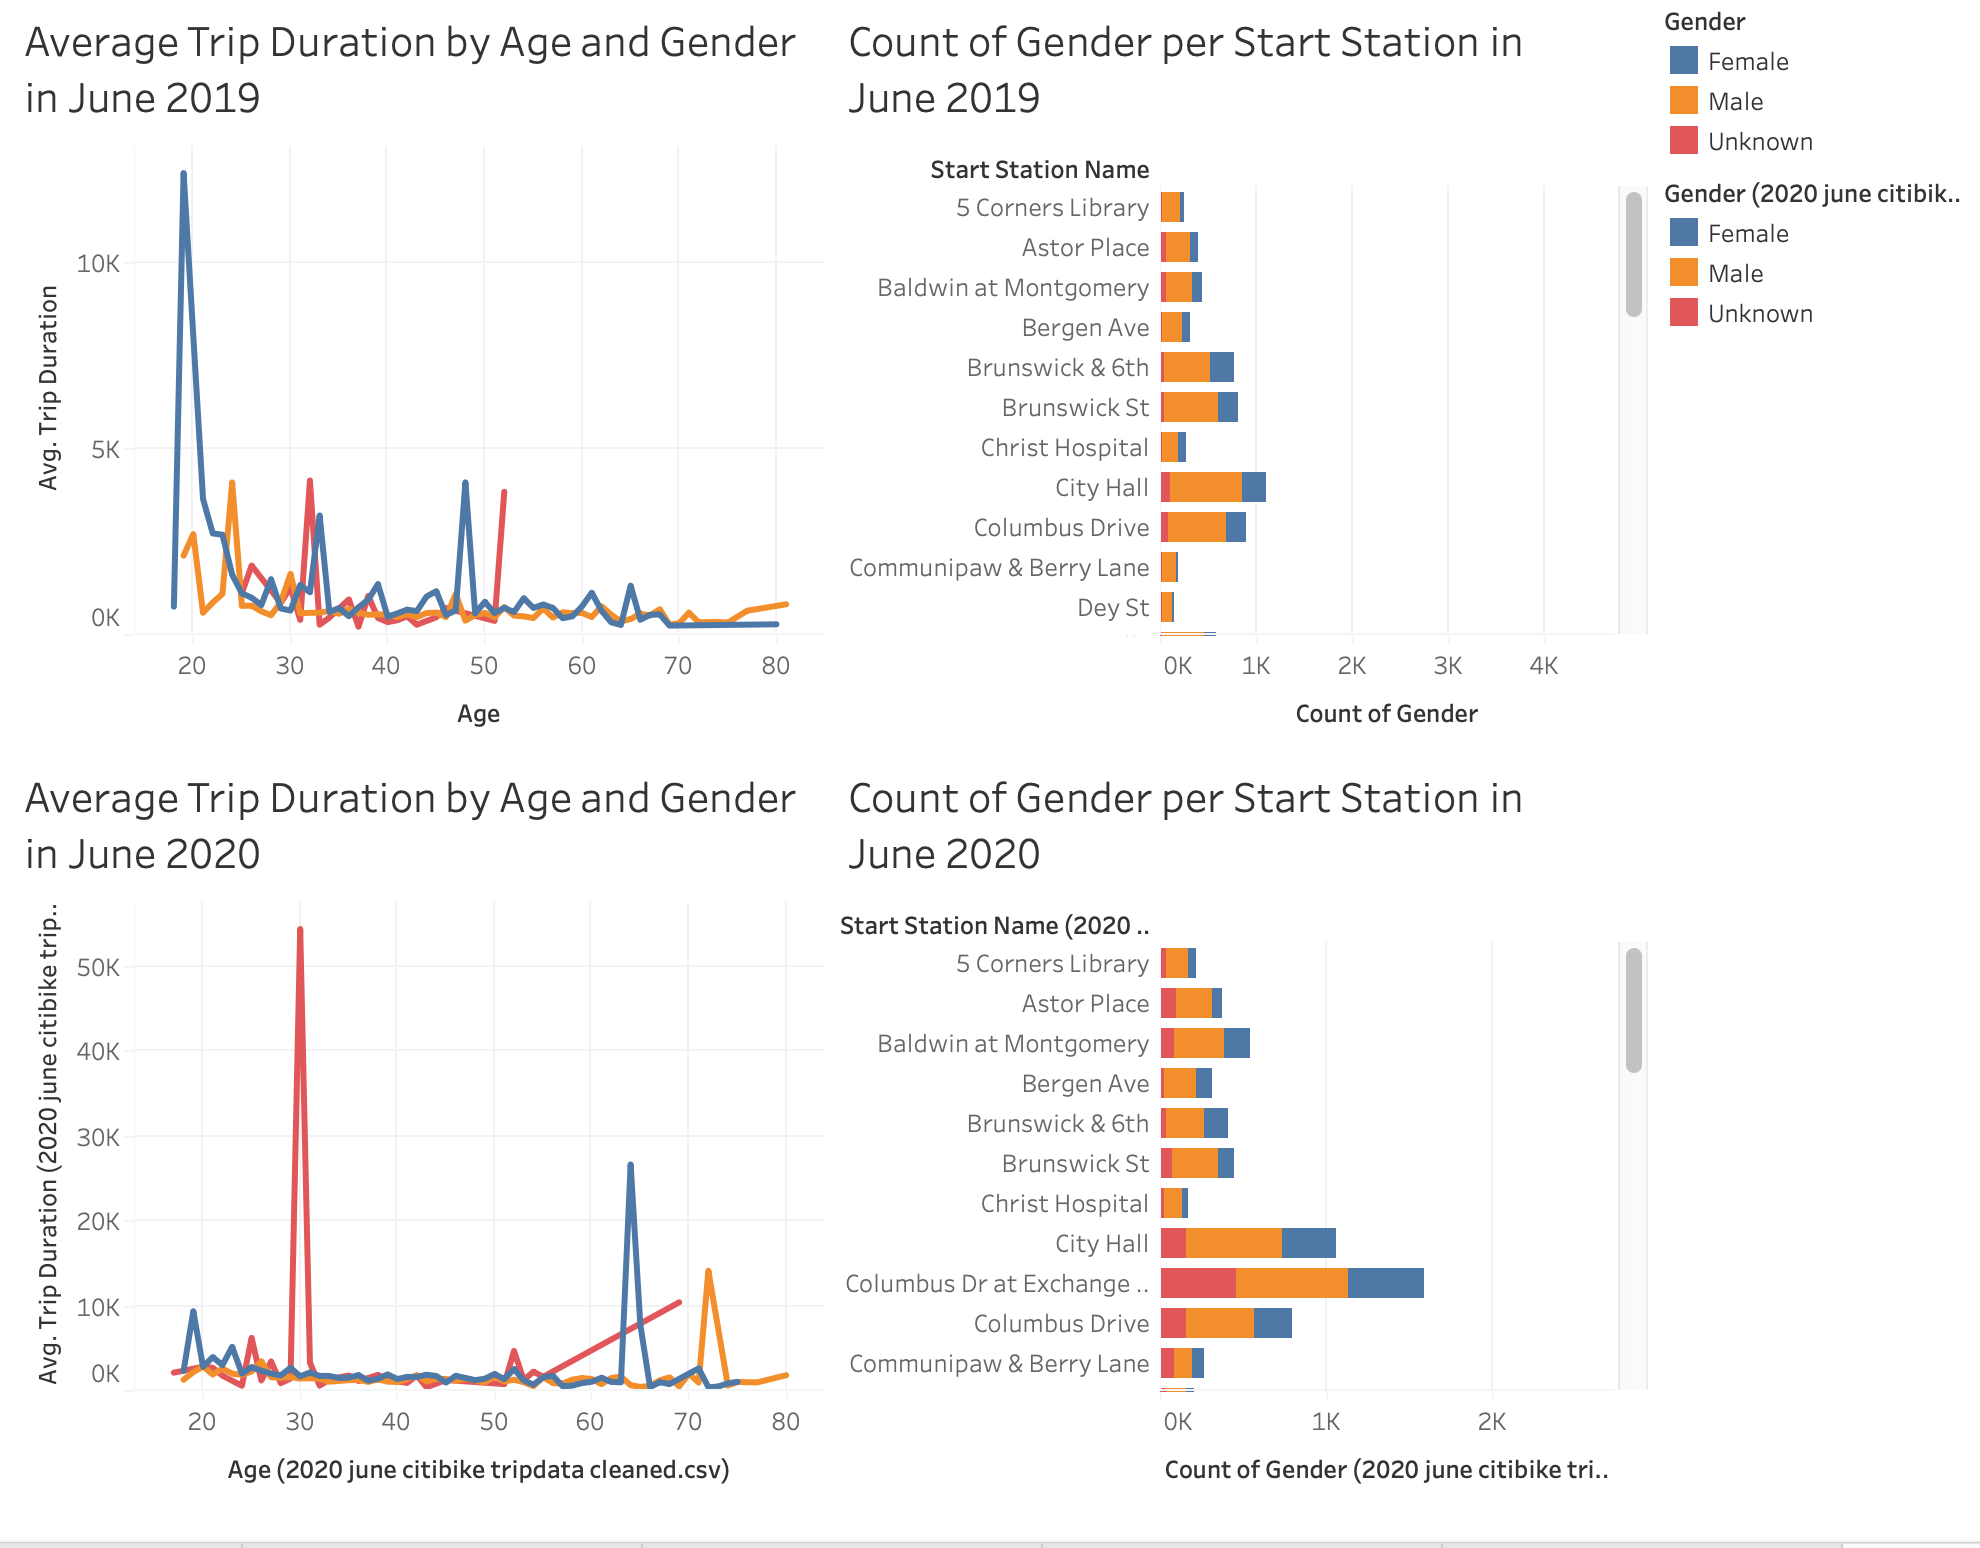

The dashboard page shown, as its layout file describes it:
{"tool":"tableau","page":{"name":"Statistics Regarding Gender For 2019 and 2020","canvas":[1000,1000],"units":"permille","ordinal":1},"visuals":[{"type":"title","box":[6.5,9.9,987,52]},{"type":"worksheet","title":"Average Trip Duration by Age and Gender in June 2019","mark":"Automatic","rows":["Trip Duration"],"cols":["Age"],"box":[6.5,61.9,428.4,464.1]},{"type":"worksheet","title":"Count of Gender per Start Station in June 2019","mark":"Automatic","rows":["Start Station Name"],"cols":["Gender"],"box":[434.9,61.9,428.4,464.1]},{"type":"legend","title":"Average Trip Duration by Age and Gender in June 2019","param":"[federated.0l9hs8w02tnjxp1b2uwqu1uhna7q].[none:Gender:nk]","box":[863.3,61.9,130.2,106.4]},{"type":"legend","title":"Average Trip Duration by Age and Gender in June 2020","param":"[federated.0l9hs8w02tnjxp1b2uwqu1uhna7q].[none:Gender (2020_june_citibike_tripda","box":[863.3,168.3,130.2,106.4]},{"type":"worksheet","title":"Average Trip Duration by Age and Gender in June 2020","mark":"Automatic","rows":["Trip Duration (2020_june_citibike_tripdata_cleaned.csv)"],"cols":["Age (2020_june_citibike_tripdata_cleaned.csv)"],"box":[6.5,526,428.4,464.1]},{"type":"worksheet","title":"Count of Gender per Start Station in June 2020","mark":"Automatic","rows":["Start Station Name (2020_june_citibike_tripdata_cleaned.csv)"],"cols":["Gender (2020_june_citibike_tripdata_cleaned.csv)"],"box":[434.9,526,428.4,464.1]}]}

Visuals, with their boxes on the dashboard's canvas, which has no fixed pixel size, in thousandths of its width and height (x1, y1, x2, y2). These are canvas units, not pixel positions in the 1980x1548 screenshot, which may show the page scaled, cropped or inside an application window:
title: [x1=6, y1=10, x2=994, y2=62]
"Average Trip Duration by Age and Gender in June 2019" worksheet: [x1=6, y1=62, x2=435, y2=526]
"Count of Gender per Start Station in June 2019" worksheet: [x1=435, y1=62, x2=863, y2=526]
"Average Trip Duration by Age and Gender in June 2019" legend: [x1=863, y1=62, x2=994, y2=168]
"Average Trip Duration by Age and Gender in June 2020" legend: [x1=863, y1=168, x2=994, y2=275]
"Average Trip Duration by Age and Gender in June 2020" worksheet: [x1=6, y1=526, x2=435, y2=990]
"Count of Gender per Start Station in June 2020" worksheet: [x1=435, y1=526, x2=863, y2=990]
